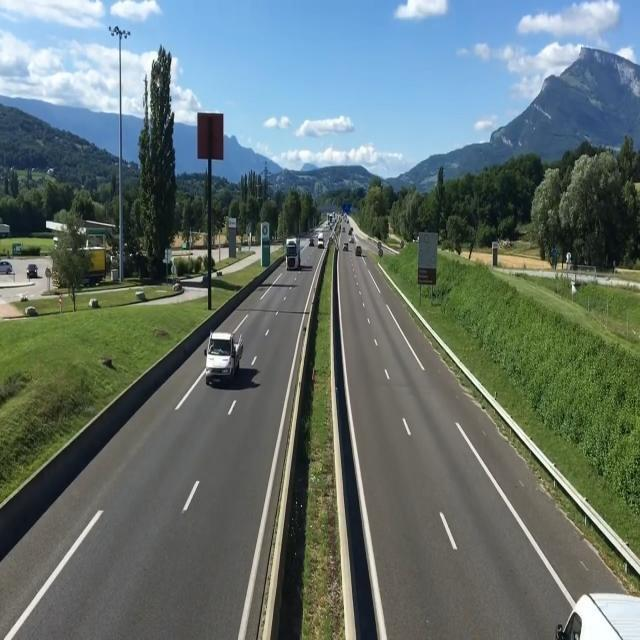Car: (26, 263, 38, 279)
Truck: (202, 330, 244, 388), (285, 237, 304, 272)
Van: (317, 232, 325, 249)
